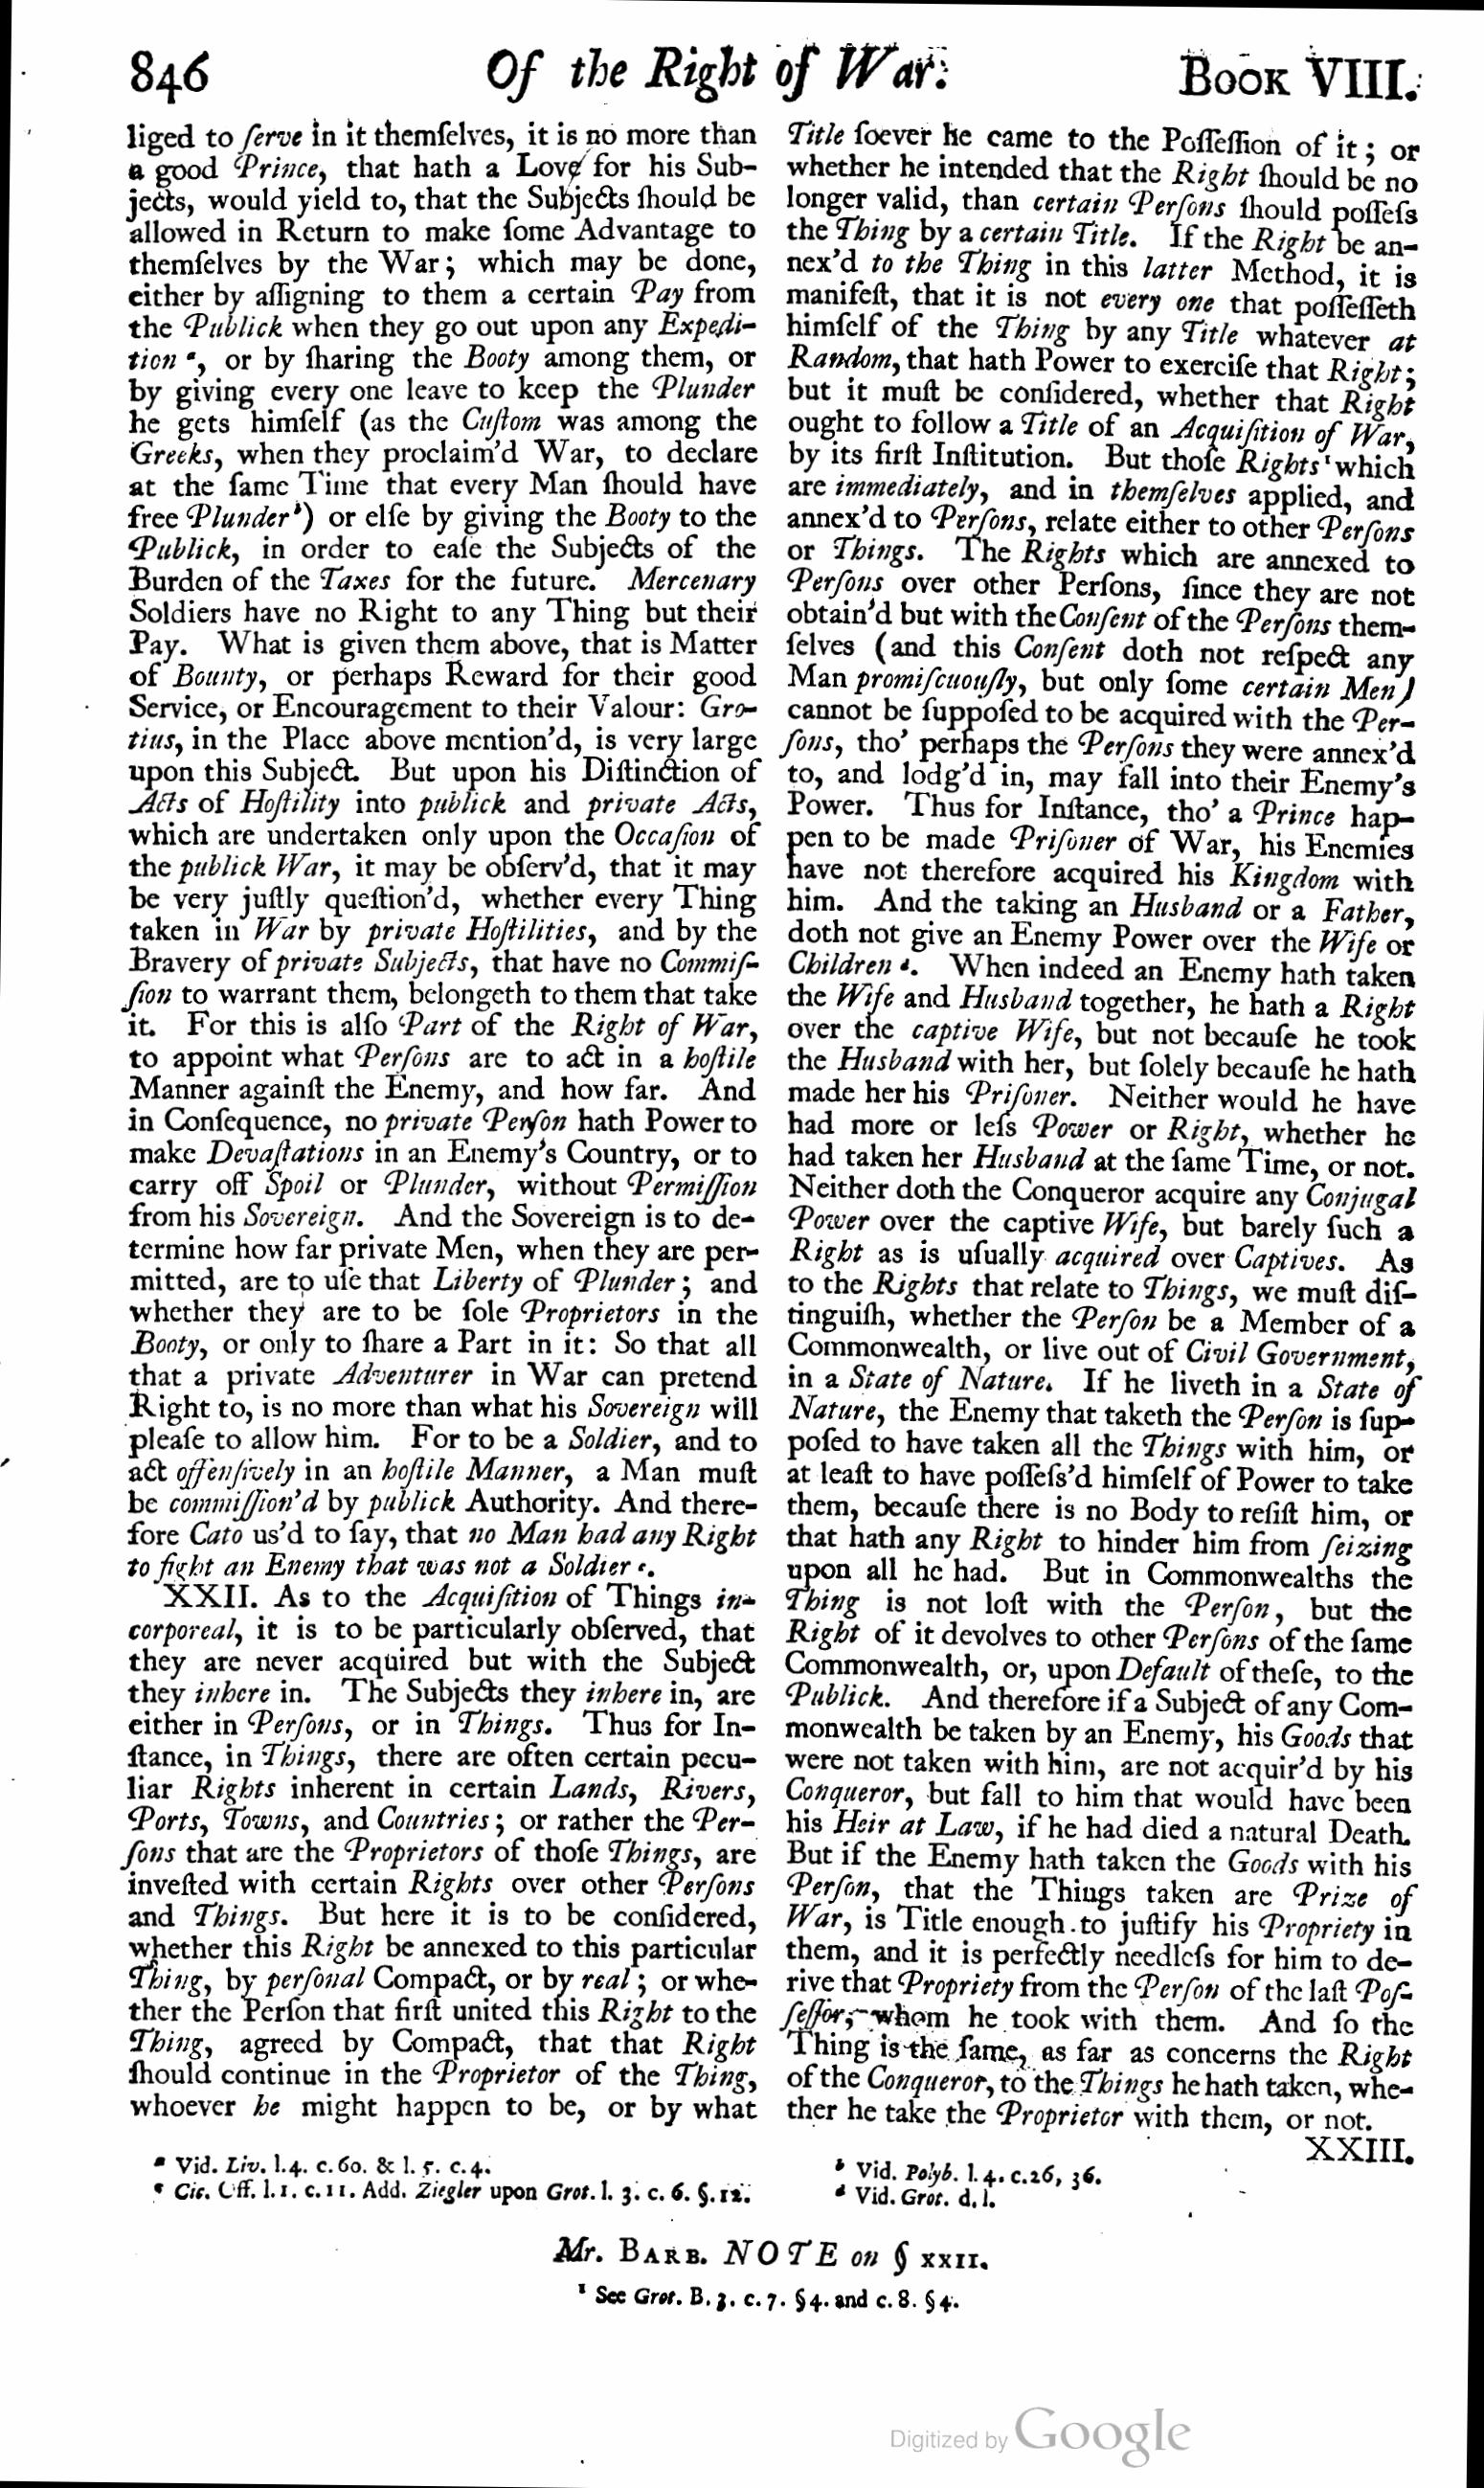bottom_p: (783, 106, 1420, 2136), (124, 118, 763, 1583)
catchword: (1306, 2129, 1420, 2170)
footnotes: (553, 2228, 1012, 2324), (143, 2145, 763, 2209), (827, 2154, 1117, 2216)
header: (486, 39, 1420, 108)
page_num: (124, 44, 210, 111)
top_p: (122, 1580, 767, 2133)
